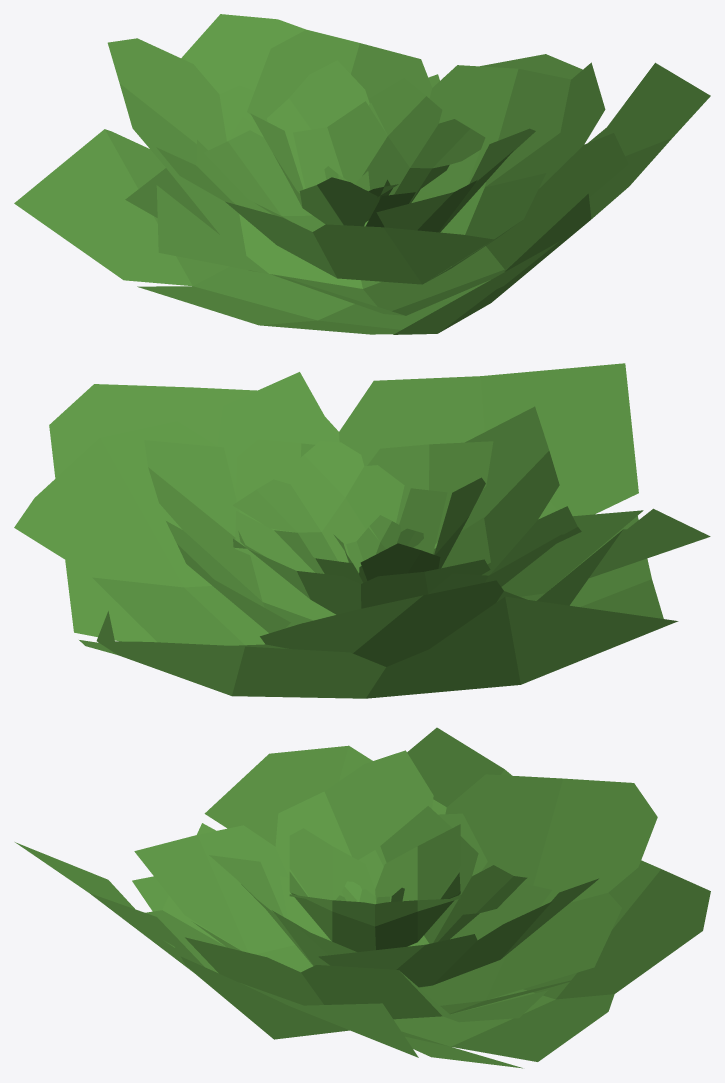
The model's file is Cabbage.fbx.
3 views of the same model, one above another, from view 1: azimuth 30°, elevation 25°; view 2: azimuth 150°, elevation 25°; view 3: azimuth 270°, elevation 25° (orthographic). The views are drawn at different scales.
Visible parts, largest first — view 1: Cabbage; view 2: Cabbage; view 3: Cabbage.
Part boxes in pixels (<box>): Cabbage: <box>14,14,710,334</box>; Cabbage: <box>14,363,710,698</box>; Cabbage: <box>15,727,710,1068</box>.
Bounding box in the file's own units: 1.06 × 0.3058 × 1.08.
